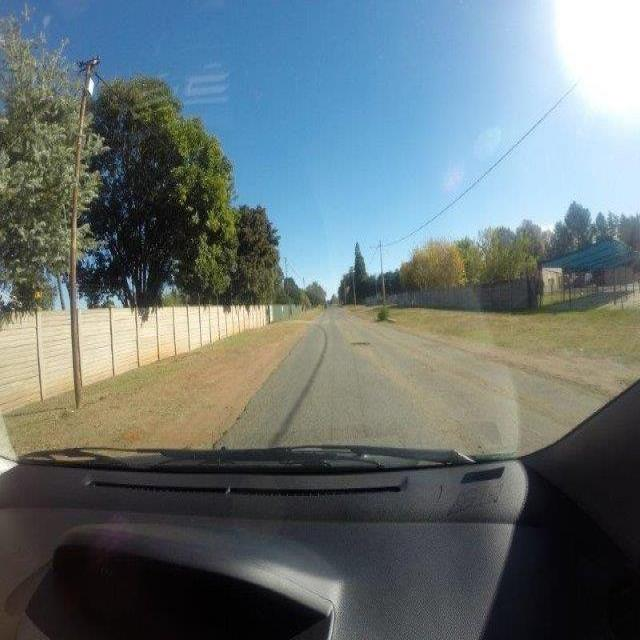lubang: (346, 337, 374, 352)
